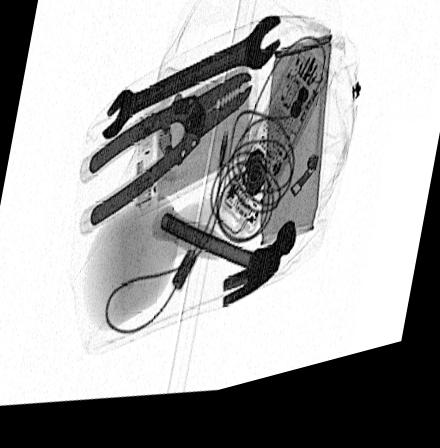Hammer: (154, 216, 297, 322)
Pliers: (77, 85, 251, 242)
Powerbank: (132, 74, 257, 231)
Wrench: (100, 29, 281, 147)
